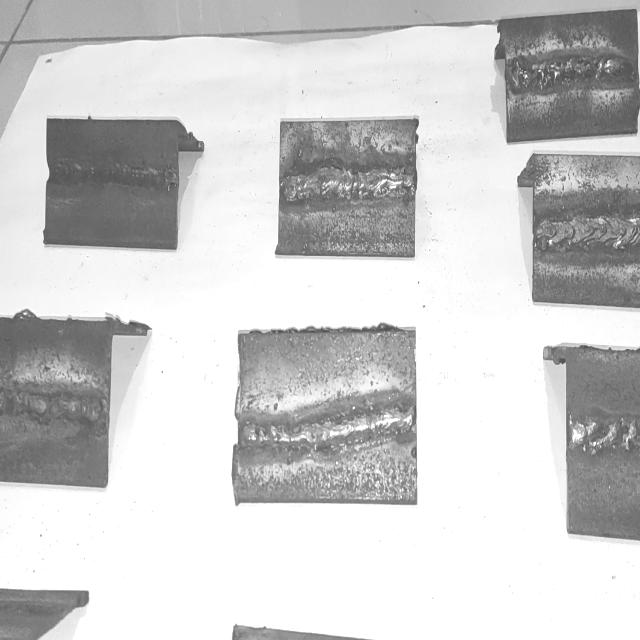Bad Weld: (510, 52, 636, 92), (0, 391, 104, 431), (569, 415, 640, 453)
Defect: (508, 59, 639, 94), (0, 395, 108, 430), (567, 419, 640, 455)
Good Weld: (242, 403, 413, 451), (50, 158, 180, 195), (282, 168, 416, 202), (535, 215, 640, 255)
